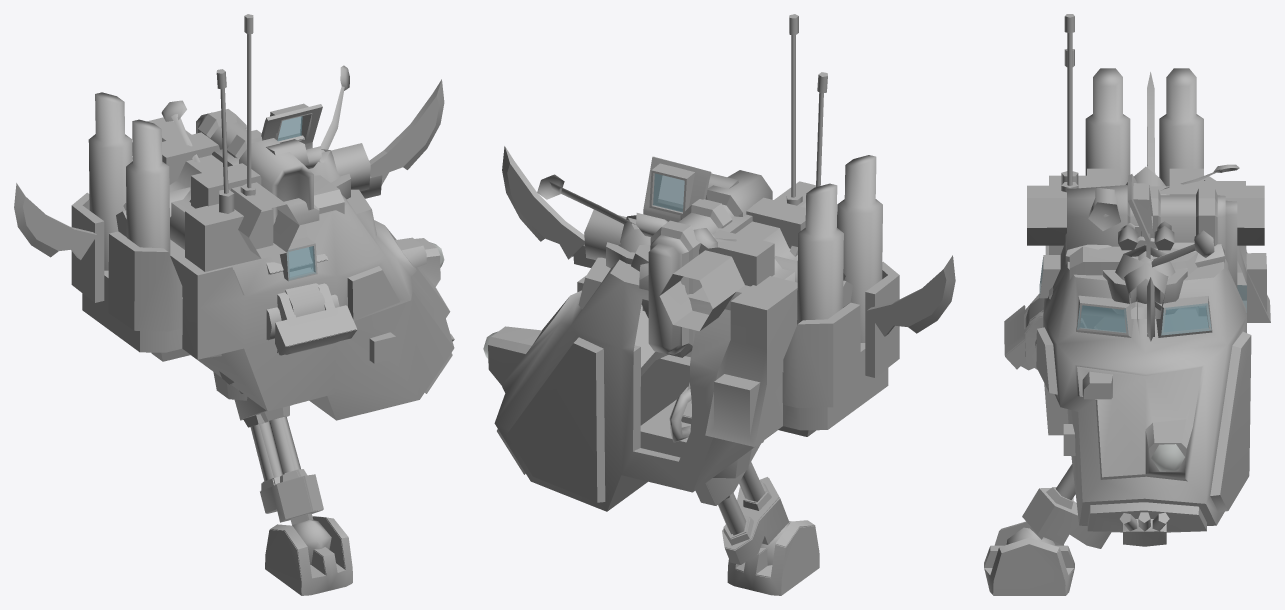
The model's file is bp_sentinel_lascannon_rocket-1h6ind9.glb.
The picture shows the model from 3 angles, left to right: view 1: azimuth 30°, elevation 25°; view 2: azimuth 150°, elevation 25°; view 3: azimuth 270°, elevation 25°; orthographic projection. The views are drawn at different scales.
Parts seen in each view (by area): view 1: turret, turret_interior, body, gun1, legr3, legl2, legl3, object012, object011, legl4, legr4, gun (+5 smaller); view 2: turret, turret_interior, body, gun1, legr3, legr4, object012, door, object011, legl3, gun, detail4 (+1 smaller); view 3: turret, turret_interior, body, gun1, legl4, legl3, gun, gun_rot_melta, door, detail4, legr2, legl2 (+4 smaller).
Boxes of the visible parts, <box> form: turret: <box>71,14,454,420</box>; turret_interior: <box>71,93,452,418</box>; body: <box>132,117,350,258</box>; gun1: <box>196,109,313,268</box>; legr3: <box>240,405,322,564</box>; legl2: <box>219,283,356,393</box>; legl3: <box>234,397,331,549</box>; object012: <box>369,79,444,184</box>; object011: <box>14,183,97,259</box>; legl4: <box>270,516,352,595</box>; legr4: <box>265,517,351,595</box>; gun: <box>116,143,382,236</box>; turret: <box>483,14,899,511</box>; turret_interior: <box>488,155,899,509</box>; body: <box>606,181,837,331</box>; gun1: <box>648,170,772,357</box>; legr3: <box>669,399,789,565</box>; legr4: <box>727,526,819,595</box>; object012: <box>502,146,584,259</box>; door: <box>642,156,711,311</box>; object011: <box>867,255,955,336</box>; legl3: <box>670,389,789,549</box>; gun: <box>573,209,852,307</box>; detail4: <box>537,174,736,248</box>; turret: <box>1036,14,1270,546</box>; turret_interior: <box>1036,68,1270,532</box>; body: <box>1027,168,1264,314</box>; gun1: <box>1067,185,1237,319</box>; legl4: <box>984,521,1074,595</box>; legl3: <box>1006,464,1110,546</box>; gun: <box>1124,166,1168,339</box>; gun_rot_melta: <box>1069,246,1134,279</box>; door: <box>1127,174,1153,259</box>; detail4: <box>1151,164,1239,267</box>; legr2: <box>1005,306,1095,370</box>; legl2: <box>1004,293,1096,355</box>.
Bounding box in the file's own units: 58.43 × 70.9 × 33.56.
